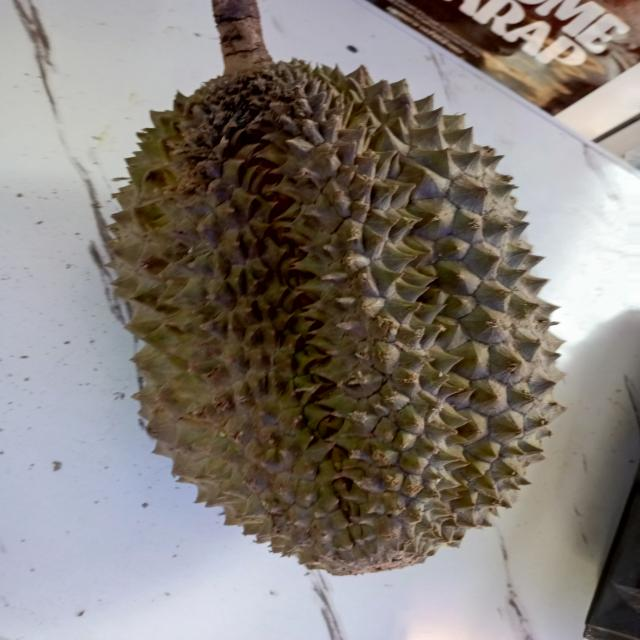mature: (109, 60, 562, 574)
